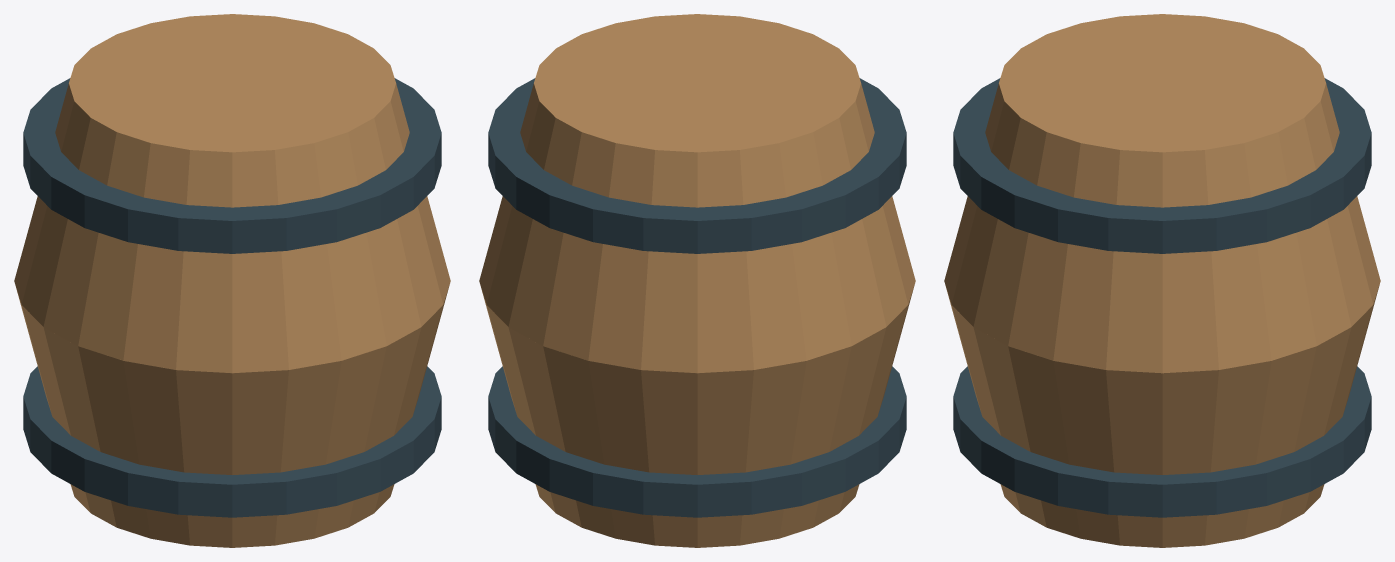
The model's file is tabletop-game-components-barrel-token-9b290264__20860.glb.
3 renders of one model, left to right at view 1: azimuth 30°, elevation 25°; view 2: azimuth 150°, elevation 25°; view 3: azimuth 270°, elevation 25°, orthographic.
Visible parts, largest first — view 1: barrel-token; view 2: barrel-token; view 3: barrel-token.
Boxes of the visible parts, bbox=[...] form: barrel-token: bbox=[14, 14, 450, 547]; barrel-token: bbox=[479, 14, 915, 547]; barrel-token: bbox=[944, 14, 1380, 547].
Bounding box in the file's own units: 0.024 × 0.024 × 0.024.
